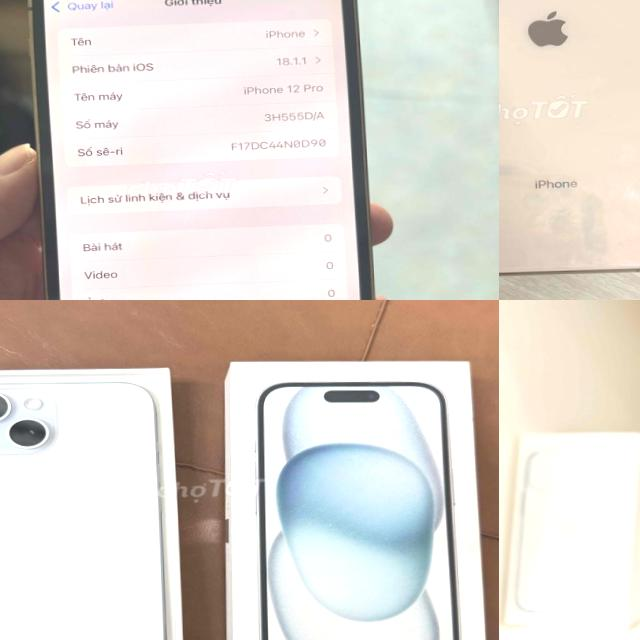gen_12_13: (16, 0, 382, 300)
gen_15: (0, 370, 173, 640)
gen_x_xs: (499, 0, 640, 280)
